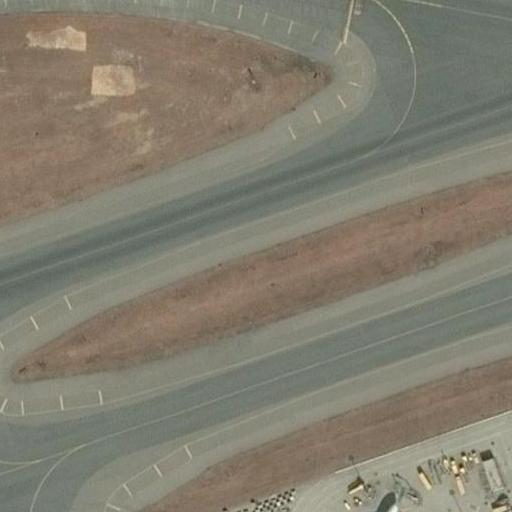Aircraft: (297, 489, 413, 512)
